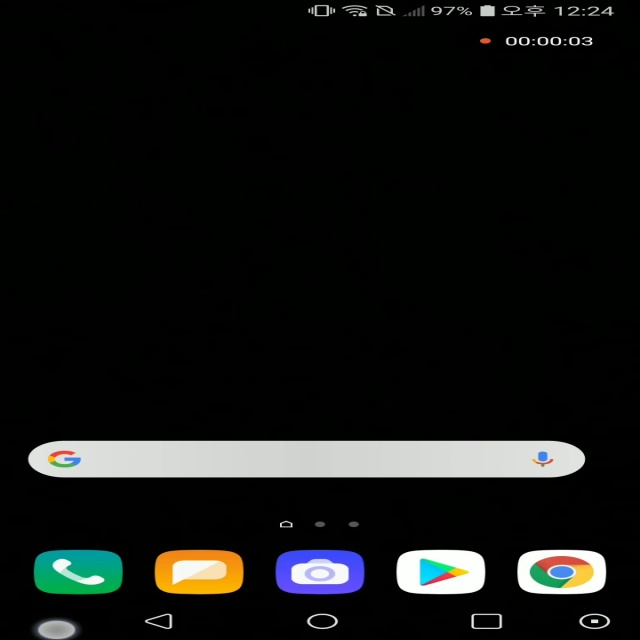Cursor: (36, 618, 80, 640)
